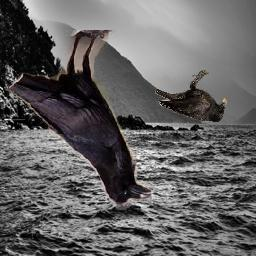Crow: (6, 30, 153, 210), (155, 70, 227, 122)
